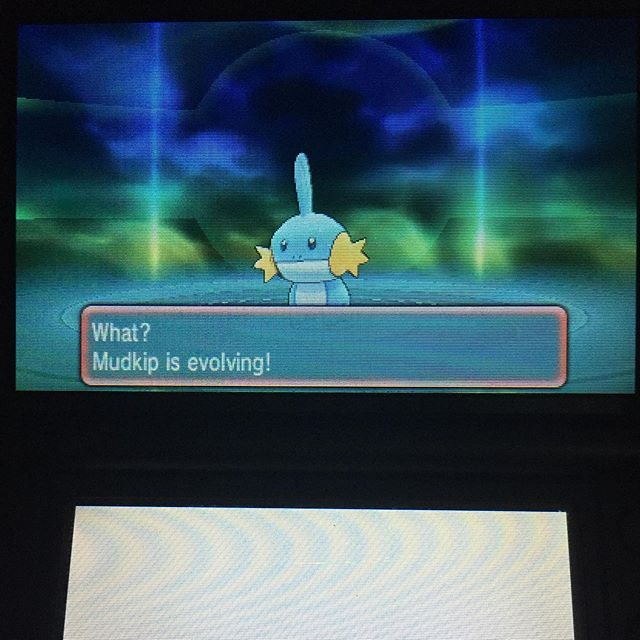mudkip: (254, 143, 371, 316)
